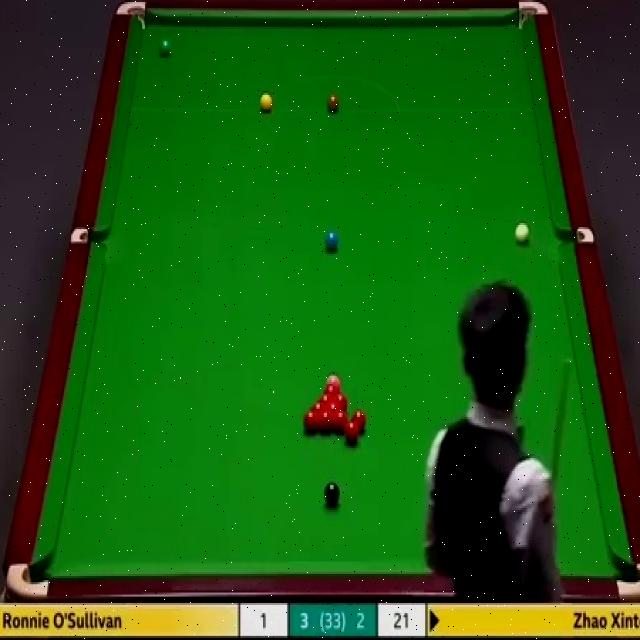black-ball: (324, 482, 340, 510)
blue-ball: (323, 230, 339, 254)
brown-ball: (326, 91, 339, 114)
green-ball: (158, 38, 172, 58)
pink-ball: (326, 372, 341, 388)
red-ball: (352, 408, 367, 434), (344, 419, 359, 444), (318, 409, 332, 434), (303, 410, 317, 434), (333, 410, 347, 434), (334, 393, 349, 408), (318, 391, 335, 403), (326, 400, 342, 411), (324, 384, 340, 394), (311, 400, 325, 410)
white-ball: (513, 220, 531, 249)
yellow-ball: (259, 90, 274, 114)
